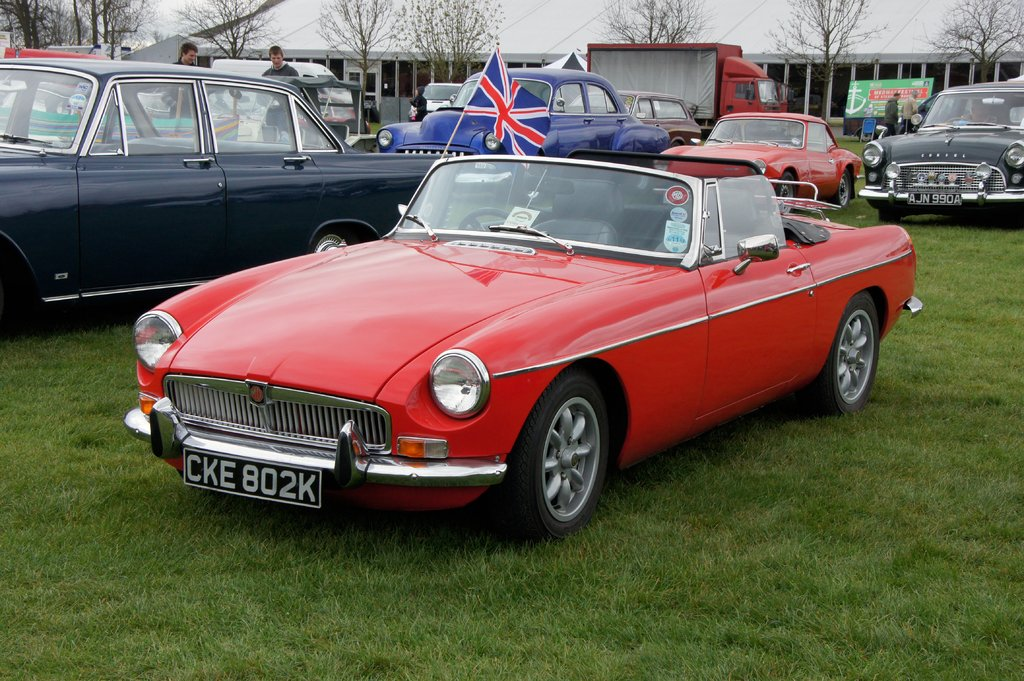Car: (123, 148, 923, 541), (0, 58, 452, 332), (375, 67, 668, 166), (861, 83, 1024, 221), (654, 113, 862, 213), (567, 90, 701, 147)
